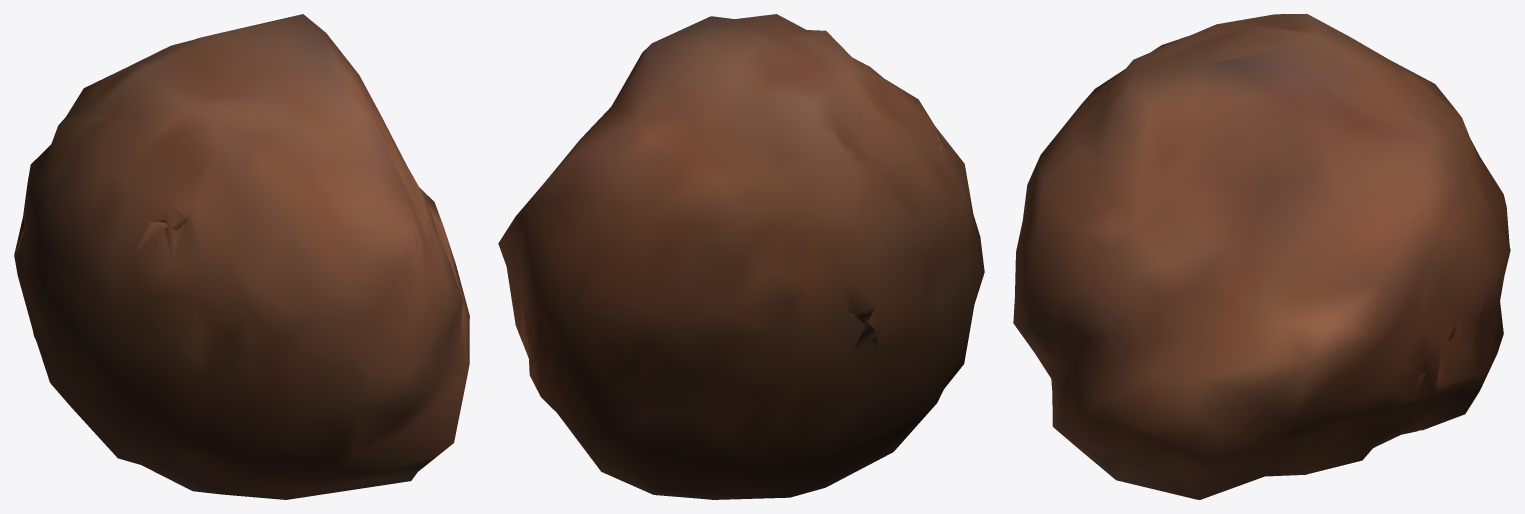
The model's file is brown_rock.glb.
3 views of the same model, side by side, from view 1: azimuth 30°, elevation 25°; view 2: azimuth 150°, elevation 25°; view 3: azimuth 270°, elevation 25° (orthographic).
Parts seen in each view (by area): view 1: model; view 2: model; view 3: model.
Part boxes in pixels (bbox=[...]): model: bbox=[14, 14, 469, 499]; model: bbox=[498, 14, 984, 499]; model: bbox=[1013, 14, 1510, 499].
Size of the model in its own units: 0.3804 by 0.3786 by 0.3979.
Materials: 1 (1 with a texture image).
